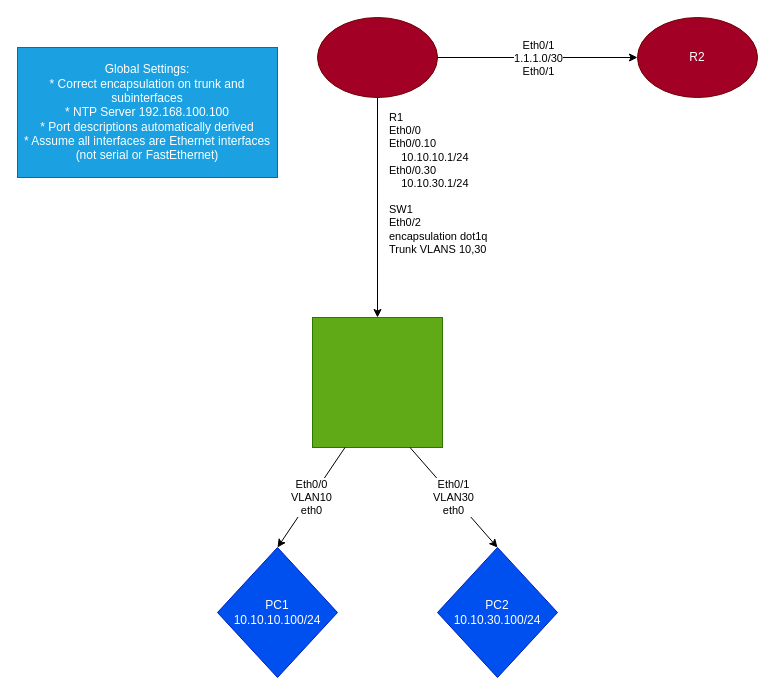
Image size: 775x695. Some labels were removed from this diagram. Each missing label, with the centre of its shape:
R1: pixel 377 57
SW1: pixel 377 382
